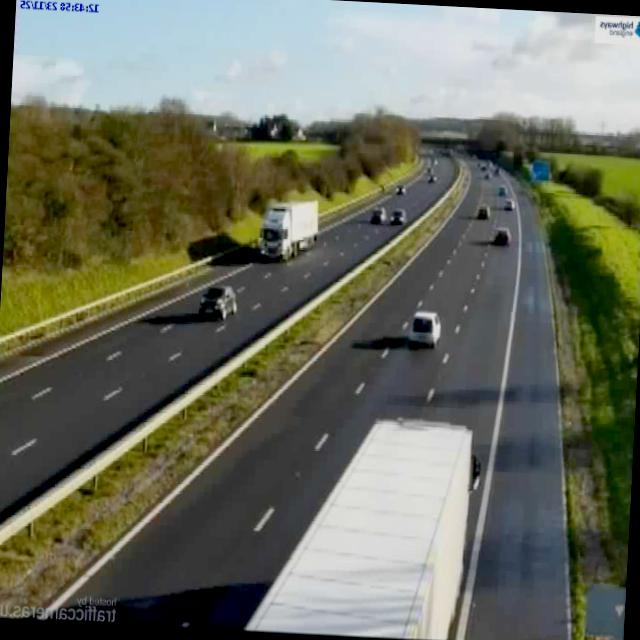foliage: (0, 98, 419, 334)
